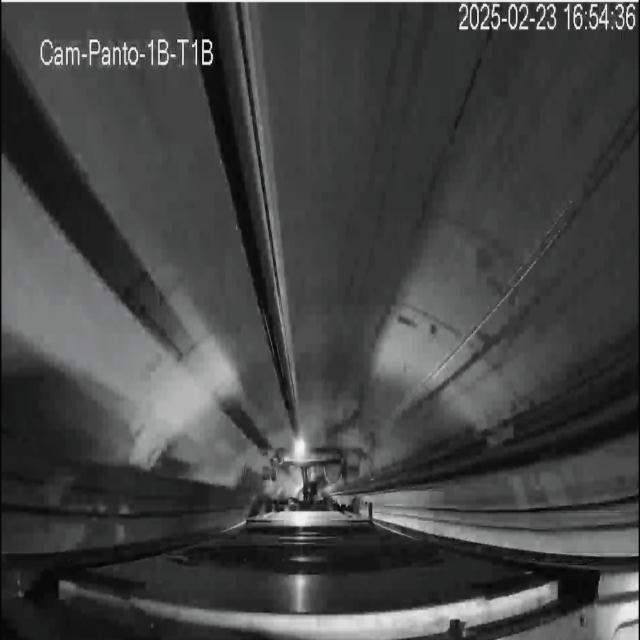Camera Stamp: (40, 33, 218, 68)
Date Stamp: (459, 3, 637, 33)
Sparks: (291, 433, 307, 463)
